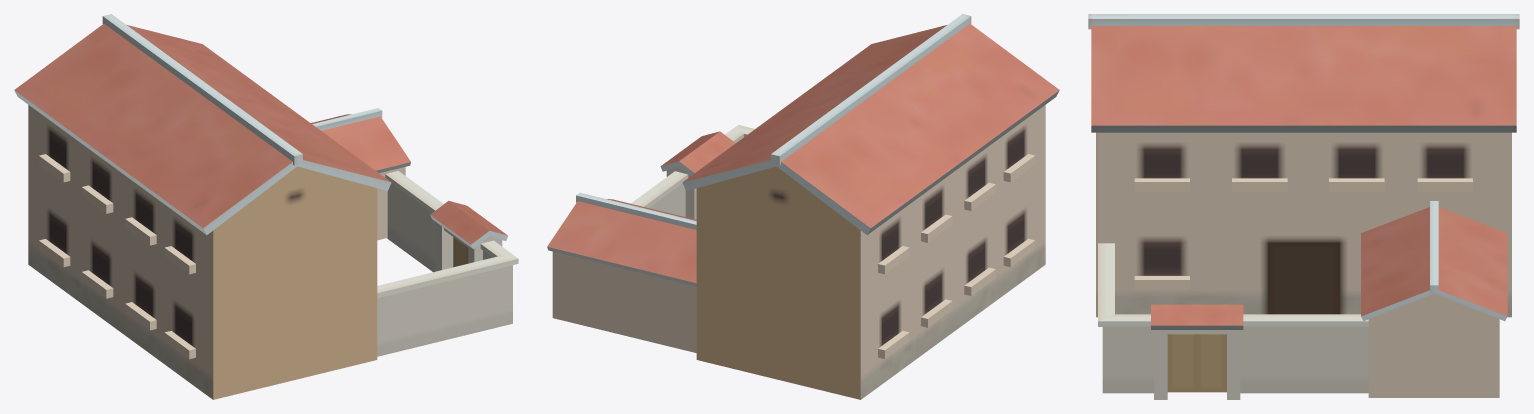
File: Plain_Building_Residential_L2_02_Mod.fbx
3 renders of one model, left to right at view 1: azimuth 30°, elevation 25°; view 2: azimuth 150°, elevation 25°; view 3: azimuth 270°, elevation 25°, orthographic. The views are drawn at different scales.
Parts seen in each view (by area): view 1: Plain_Building_Residential_L2_02_Mod; view 2: Plain_Building_Residential_L2_02_Mod; view 3: Plain_Building_Residential_L2_02_Mod.
Part boxes in pixels (x1,y1,x2,y2): Plain_Building_Residential_L2_02_Mod: [14, 14, 518, 399]; Plain_Building_Residential_L2_02_Mod: [547, 14, 1059, 399]; Plain_Building_Residential_L2_02_Mod: [1088, 14, 1519, 399].
Size of the model in its own units: 1188 by 777 by 1188.
